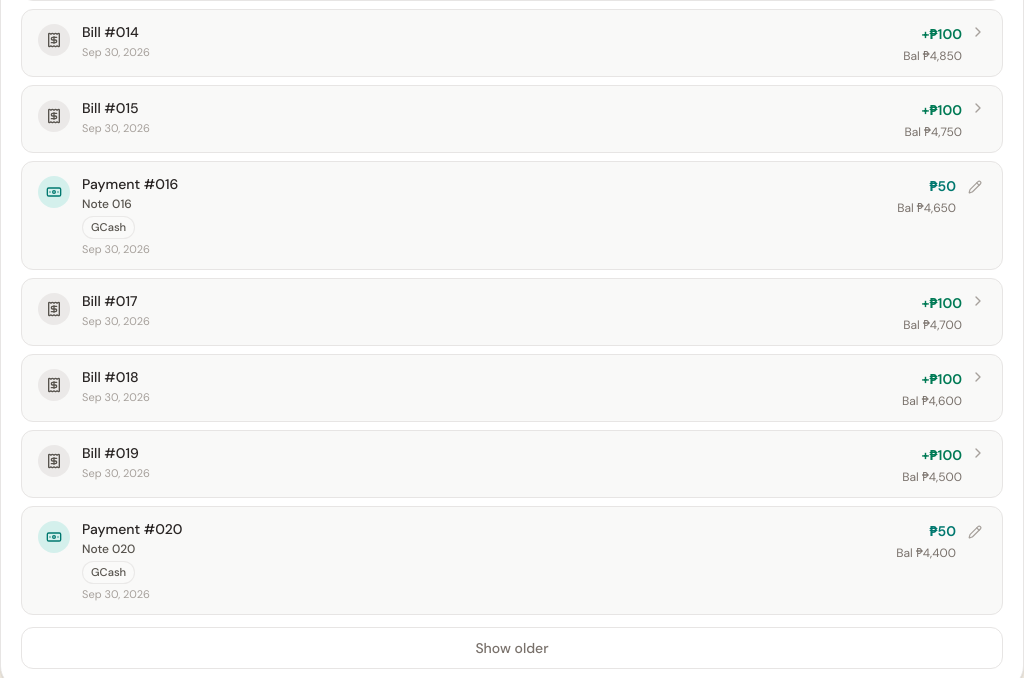
Test: PersonDetailPage payment lookup cost (C15) › C15: a write (data bump) with 40 rows loaded costs exactly one lookup, and shows the edited note
(page scrolled)
Click the button "Show older" at (512, 648), box left=21, top=628, right=1003, bottom=670
(page scrolled)
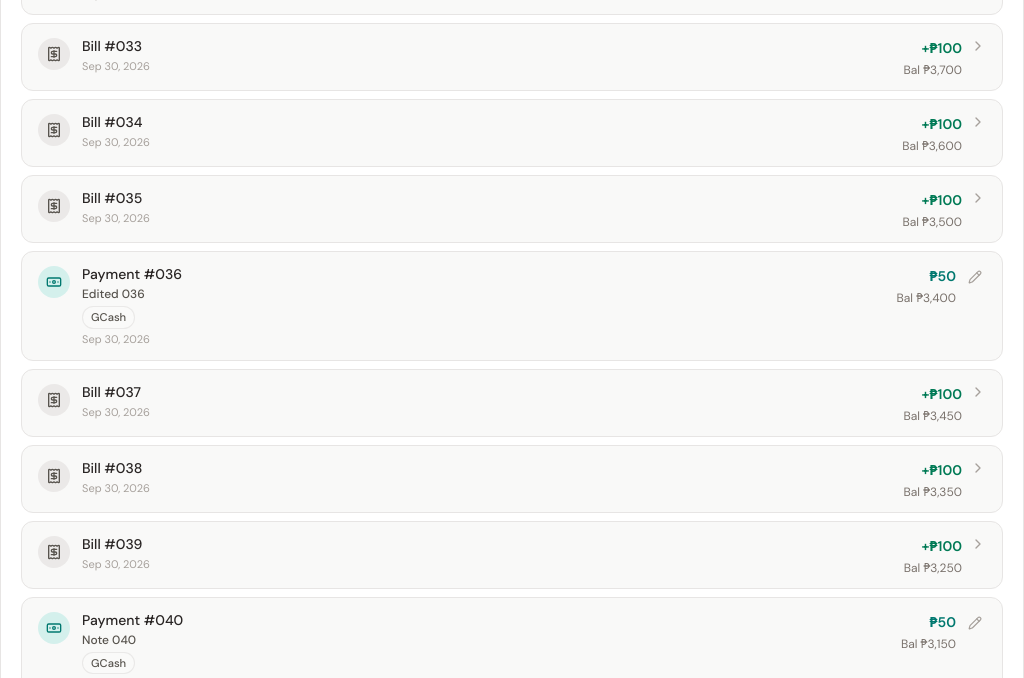
expect the list item "Payment #036 Edited 036 GCash Sep 30, 2026 ₱50 Bal ₱3,400" is shown: met, box left=21, top=251, right=1003, bottom=361
